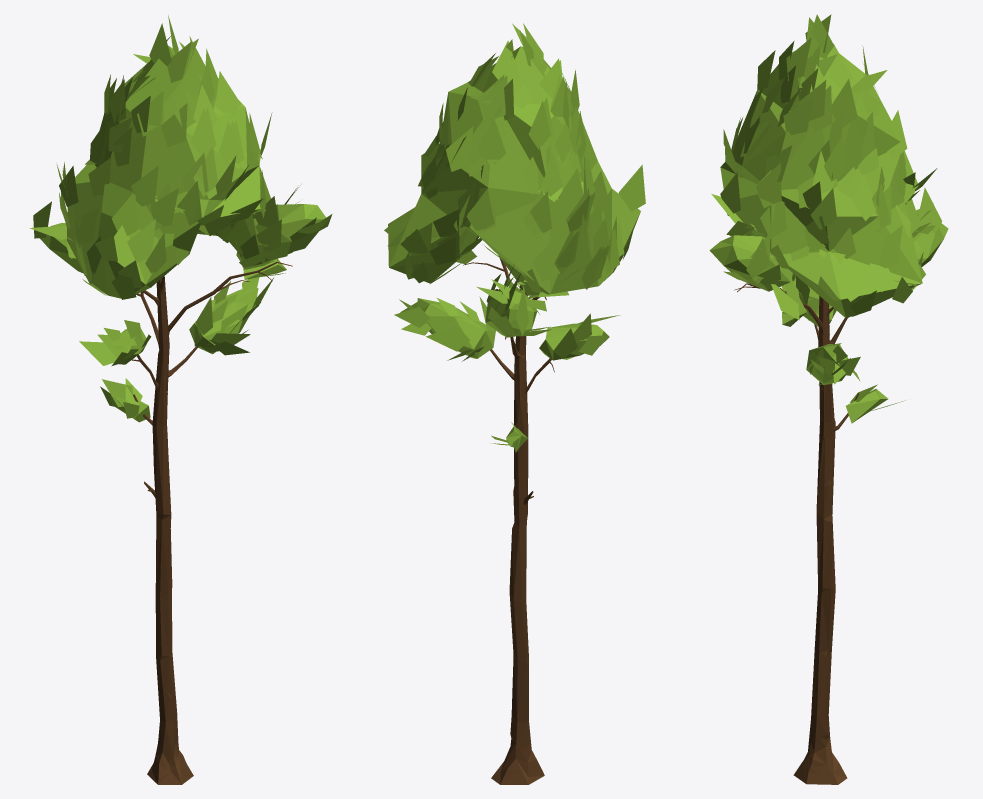
File: tree-birch-mature-a.gltf
3 views of the same model, side by side, from view 1: azimuth 30°, elevation 25°; view 2: azimuth 150°, elevation 25°; view 3: azimuth 270°, elevation 25° (orthographic).
Parts seen in each view (by area): view 1: tree-birch-mature-a; view 2: tree-birch-mature-a; view 3: tree-birch-mature-a.
Part boxes in pixels (x1,y1,x2,y2): tree-birch-mature-a: (29, 15, 332, 784); tree-birch-mature-a: (384, 23, 645, 784); tree-birch-mature-a: (709, 14, 948, 784).
Bounding box in the file's own units: 0.0385 × 0.1157 × 0.0388.
